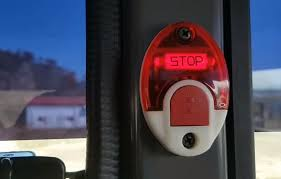bell: (139, 21, 230, 157)
